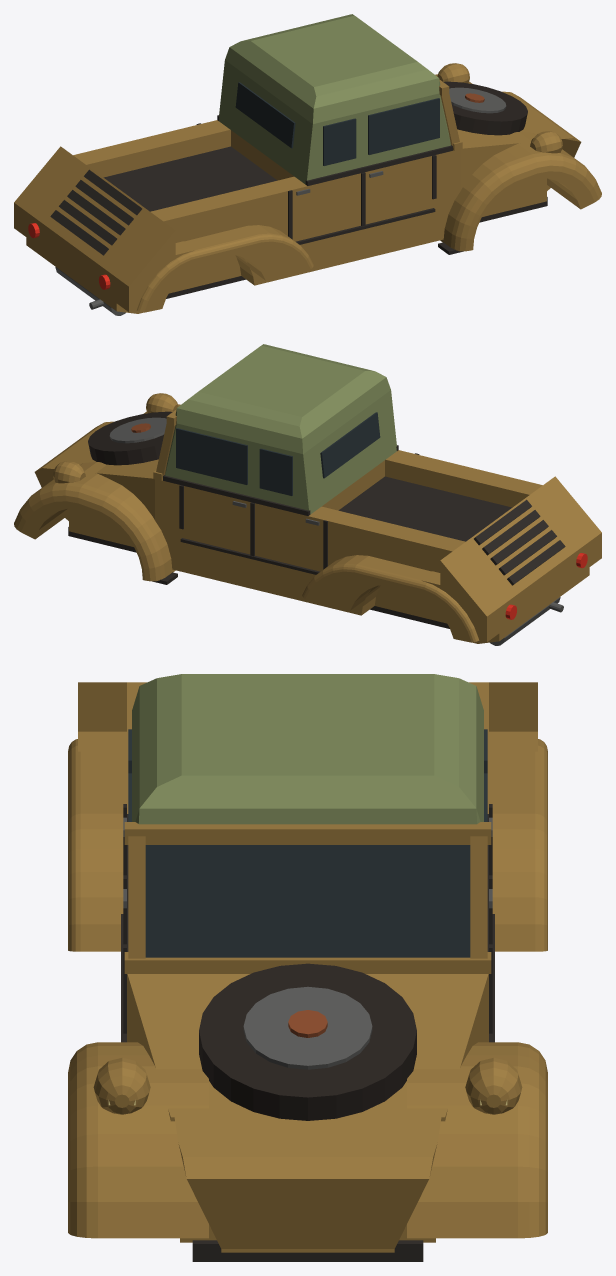
The model's file is base_jeep.glb.
3 views of the same model, one above another, from view 1: azimuth 30°, elevation 25°; view 2: azimuth 150°, elevation 25°; view 3: azimuth 270°, elevation 25° (orthographic). The views are drawn at different scales.
Visible parts, largest first — view 1: base_jeep; view 2: base_jeep; view 3: base_jeep.
Part boxes in pixels (x1,y1,x2,y2): base_jeep: (14,14,601,315); base_jeep: (14,344,601,645); base_jeep: (68,674,547,1261).
Size of the model in its own units: 4.51 by 1.65 by 1.94.
